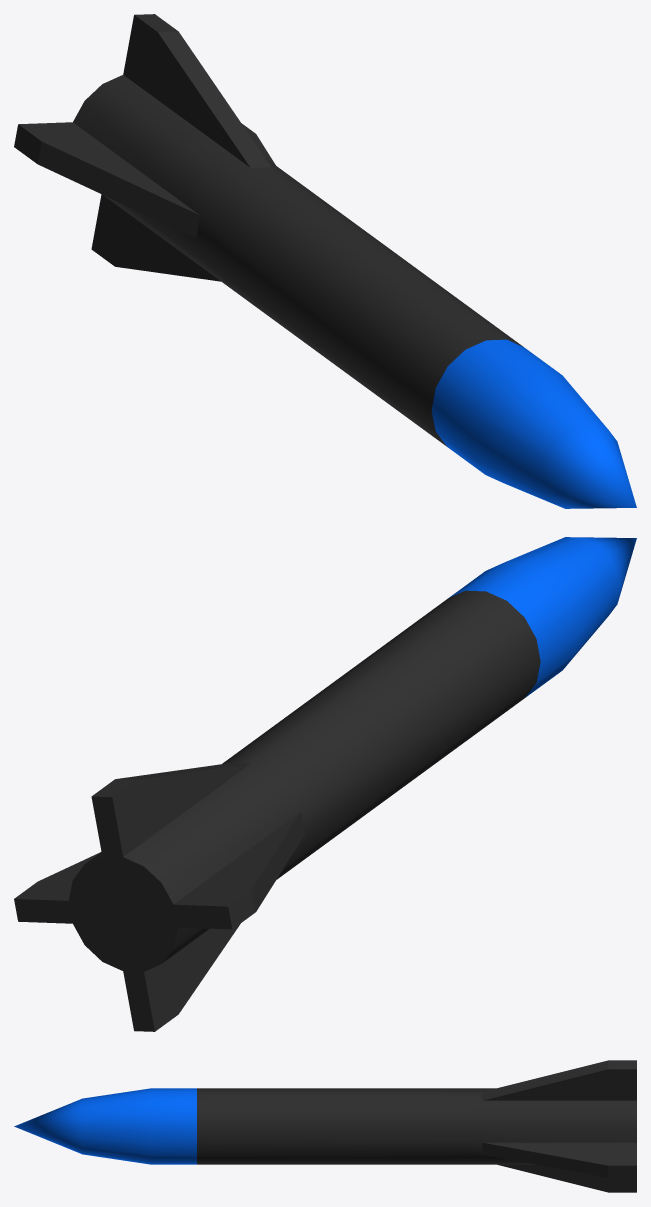
Rendered from Missile.fbx.
3 views of the same model, one above another, from view 1: azimuth 30°, elevation 25°; view 2: azimuth 150°, elevation 25°; view 3: azimuth 270°, elevation 25° (orthographic). The views are drawn at different scales.
Visible parts, largest first — view 1: Missile; view 2: Missile; view 3: Missile.
Part boxes in pixels (<box>): Missile: <box>14,14,636,508</box>; Missile: <box>14,537,636,1031</box>; Missile: <box>14,1060,636,1192</box>.
Bounding box in the file's own units: 30.6 × 125 × 30.6.
